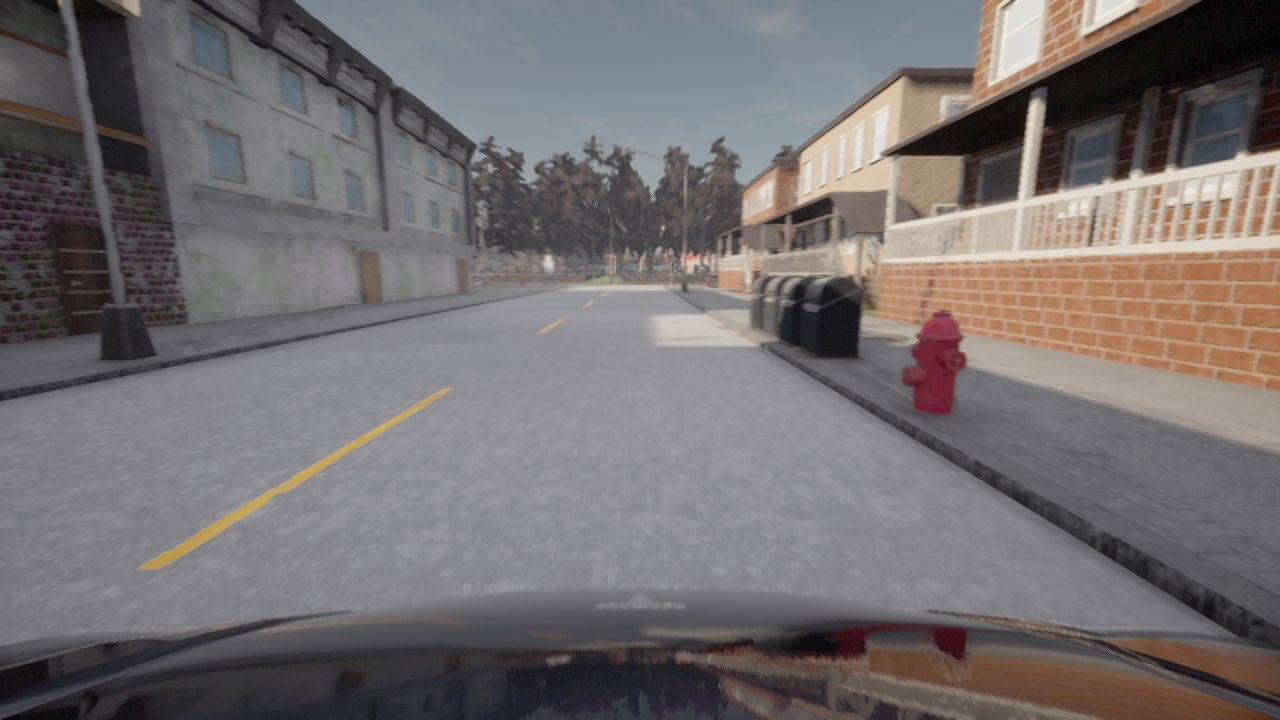cyclist: (0, 588, 1279, 719)
